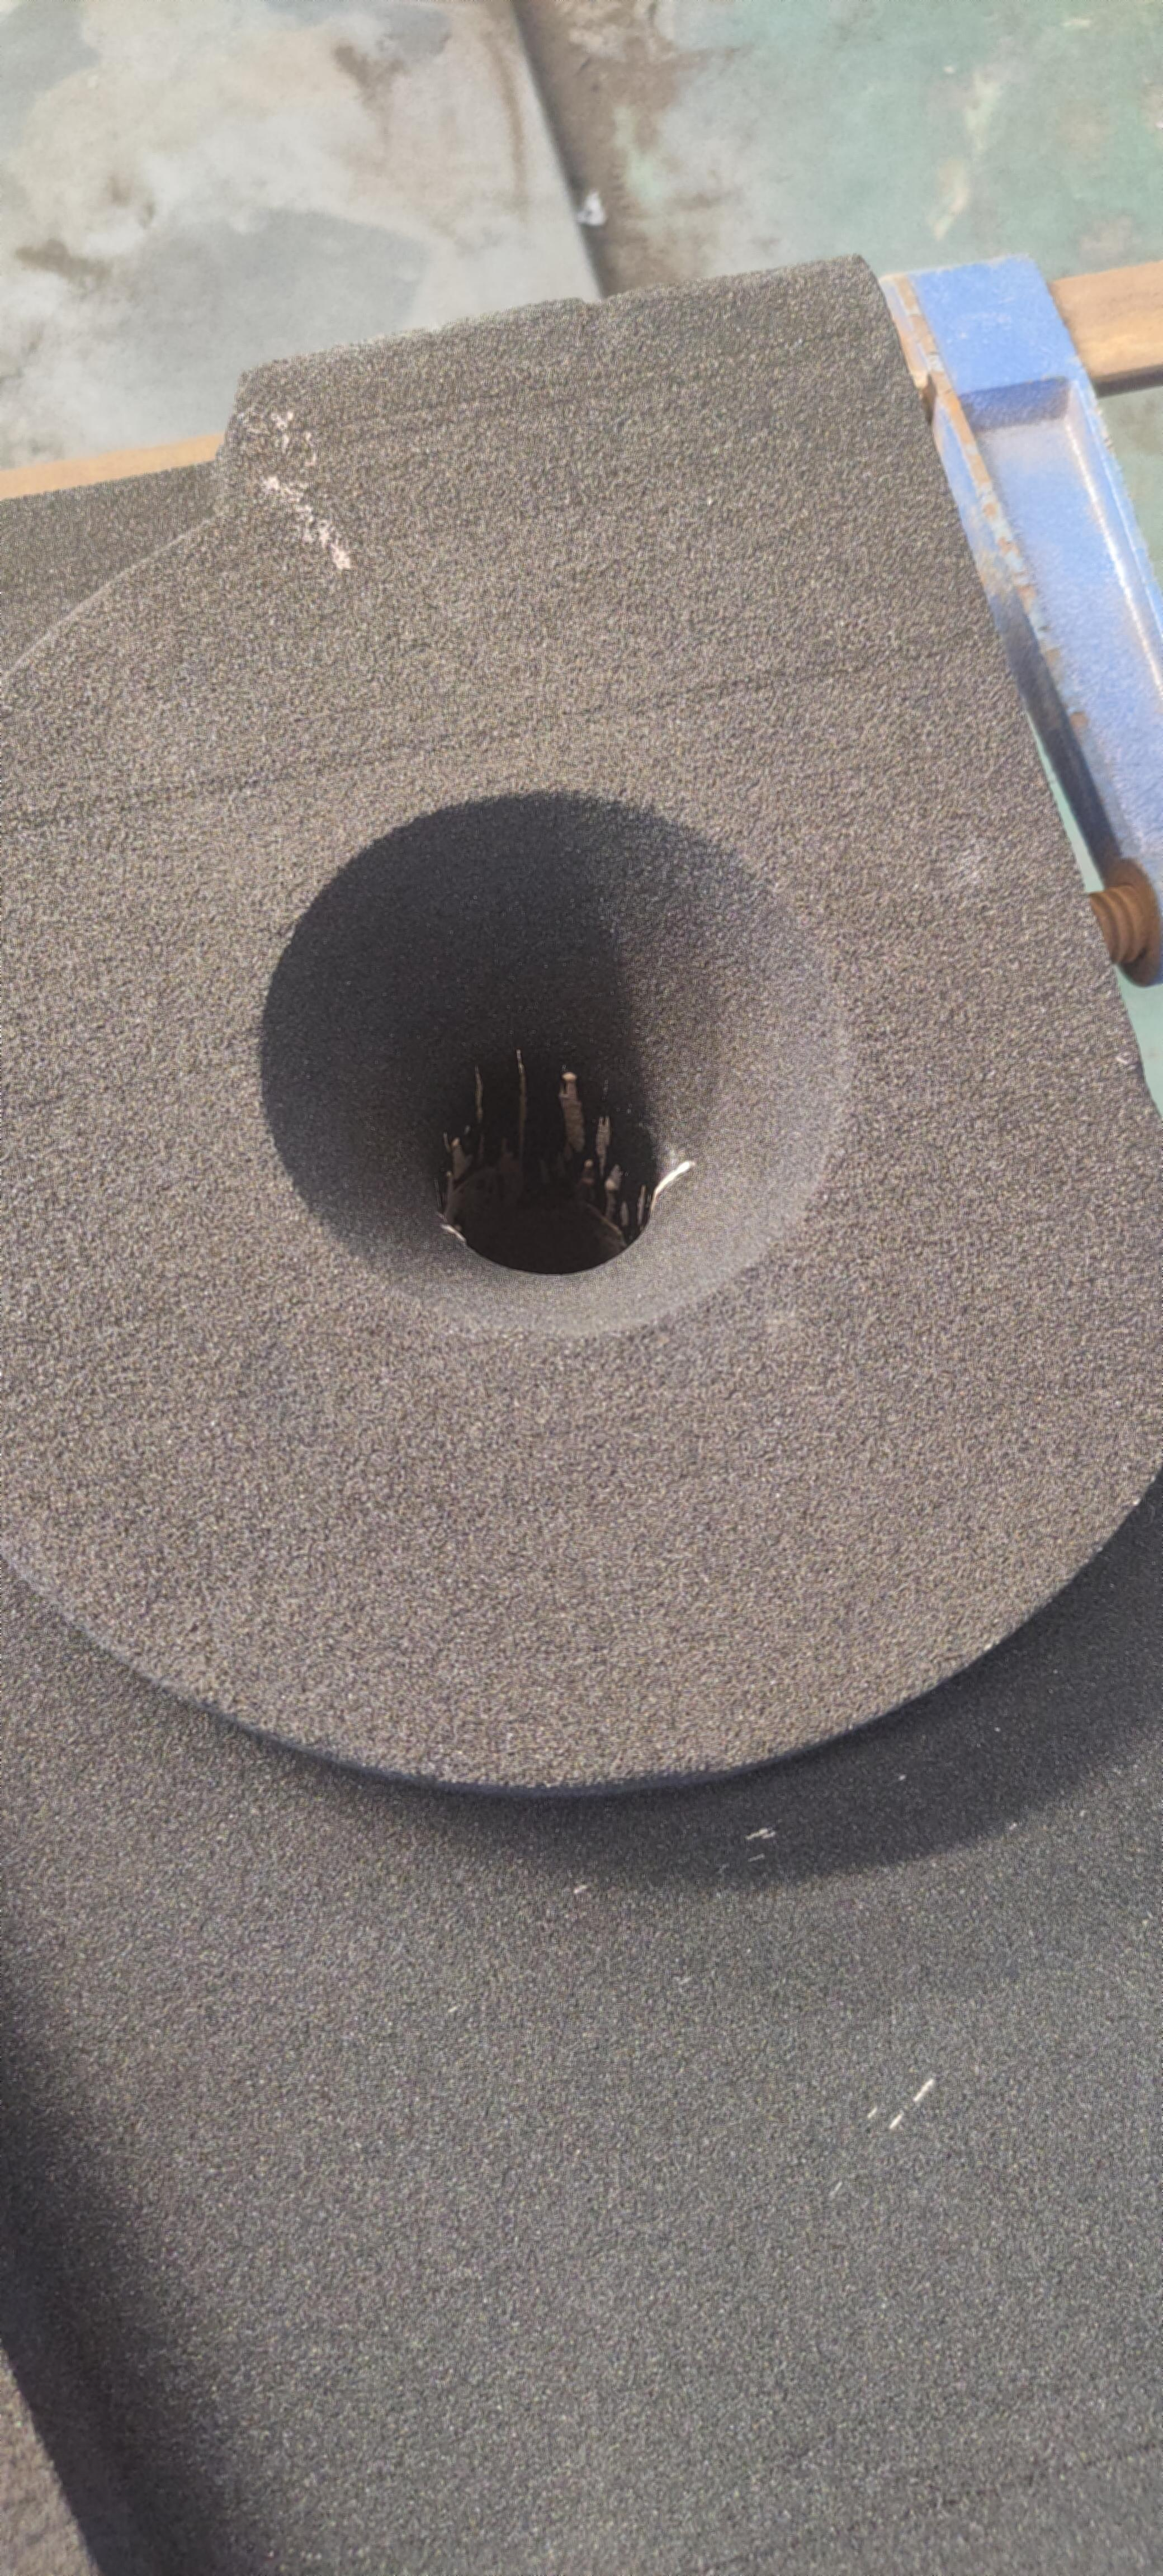pouring hole: (255, 790, 841, 1337)
